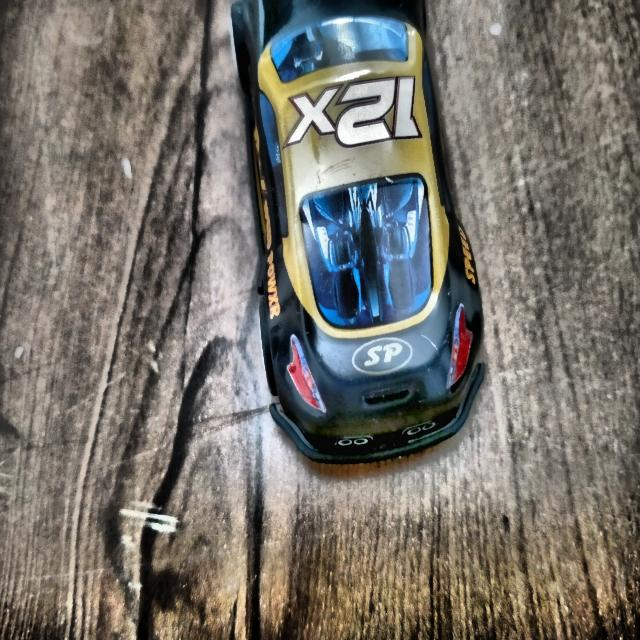Car: (227, 2, 497, 470)
